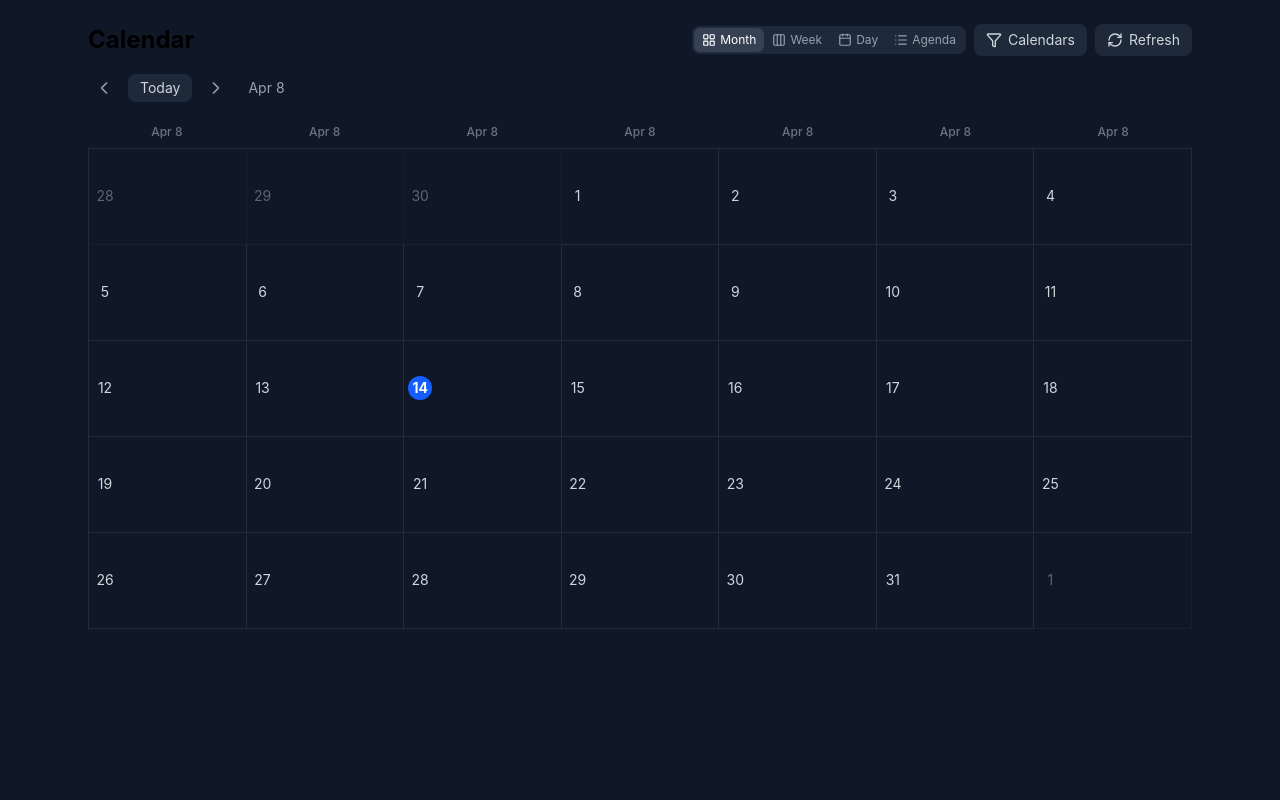
Scenario: CalendarPage – view mode › switching to agenda view updates rendered content
expect the table is shown: met, box [88, 120, 1192, 629]
# Click Agenda button to switch views
Step 1. Click the radio button labelled "Agenda" → (925, 40), box [886, 28, 964, 52]
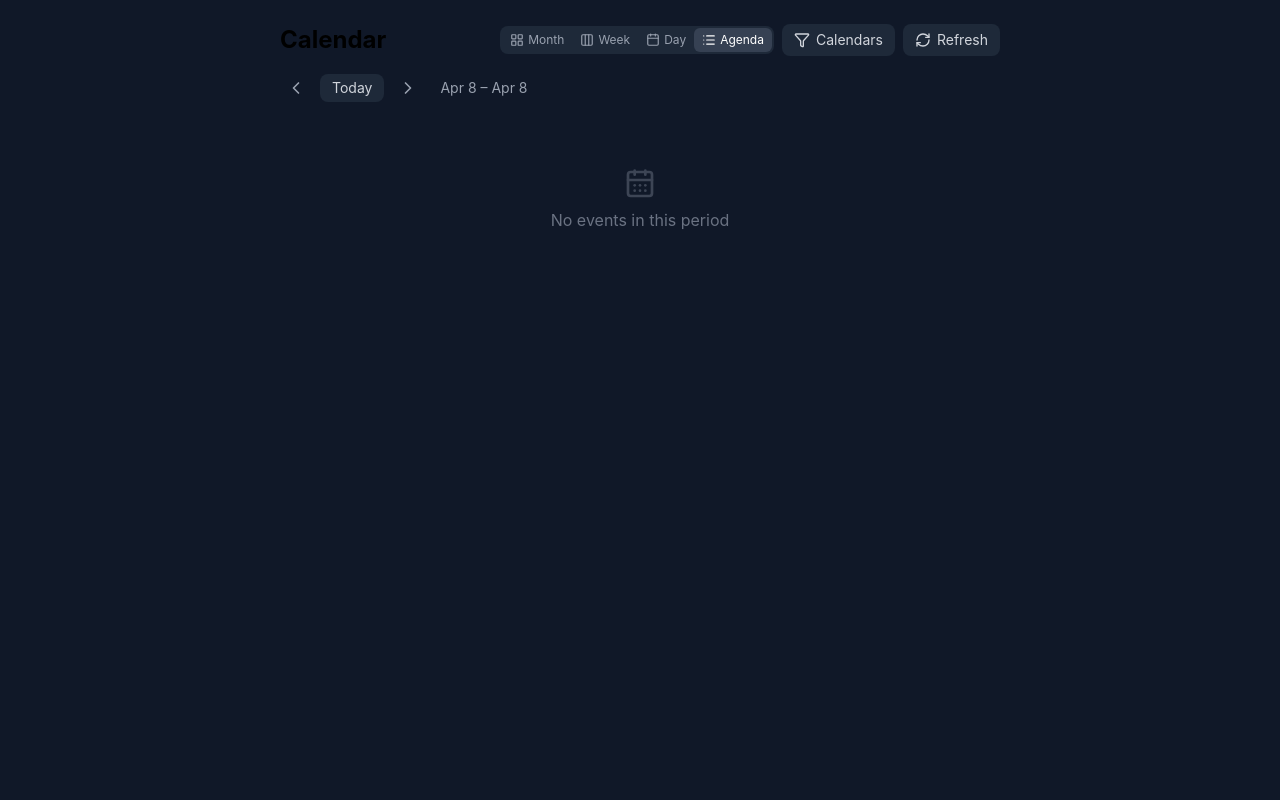
expect the text "No events in this period" is shown: met, box [551, 210, 729, 230]
